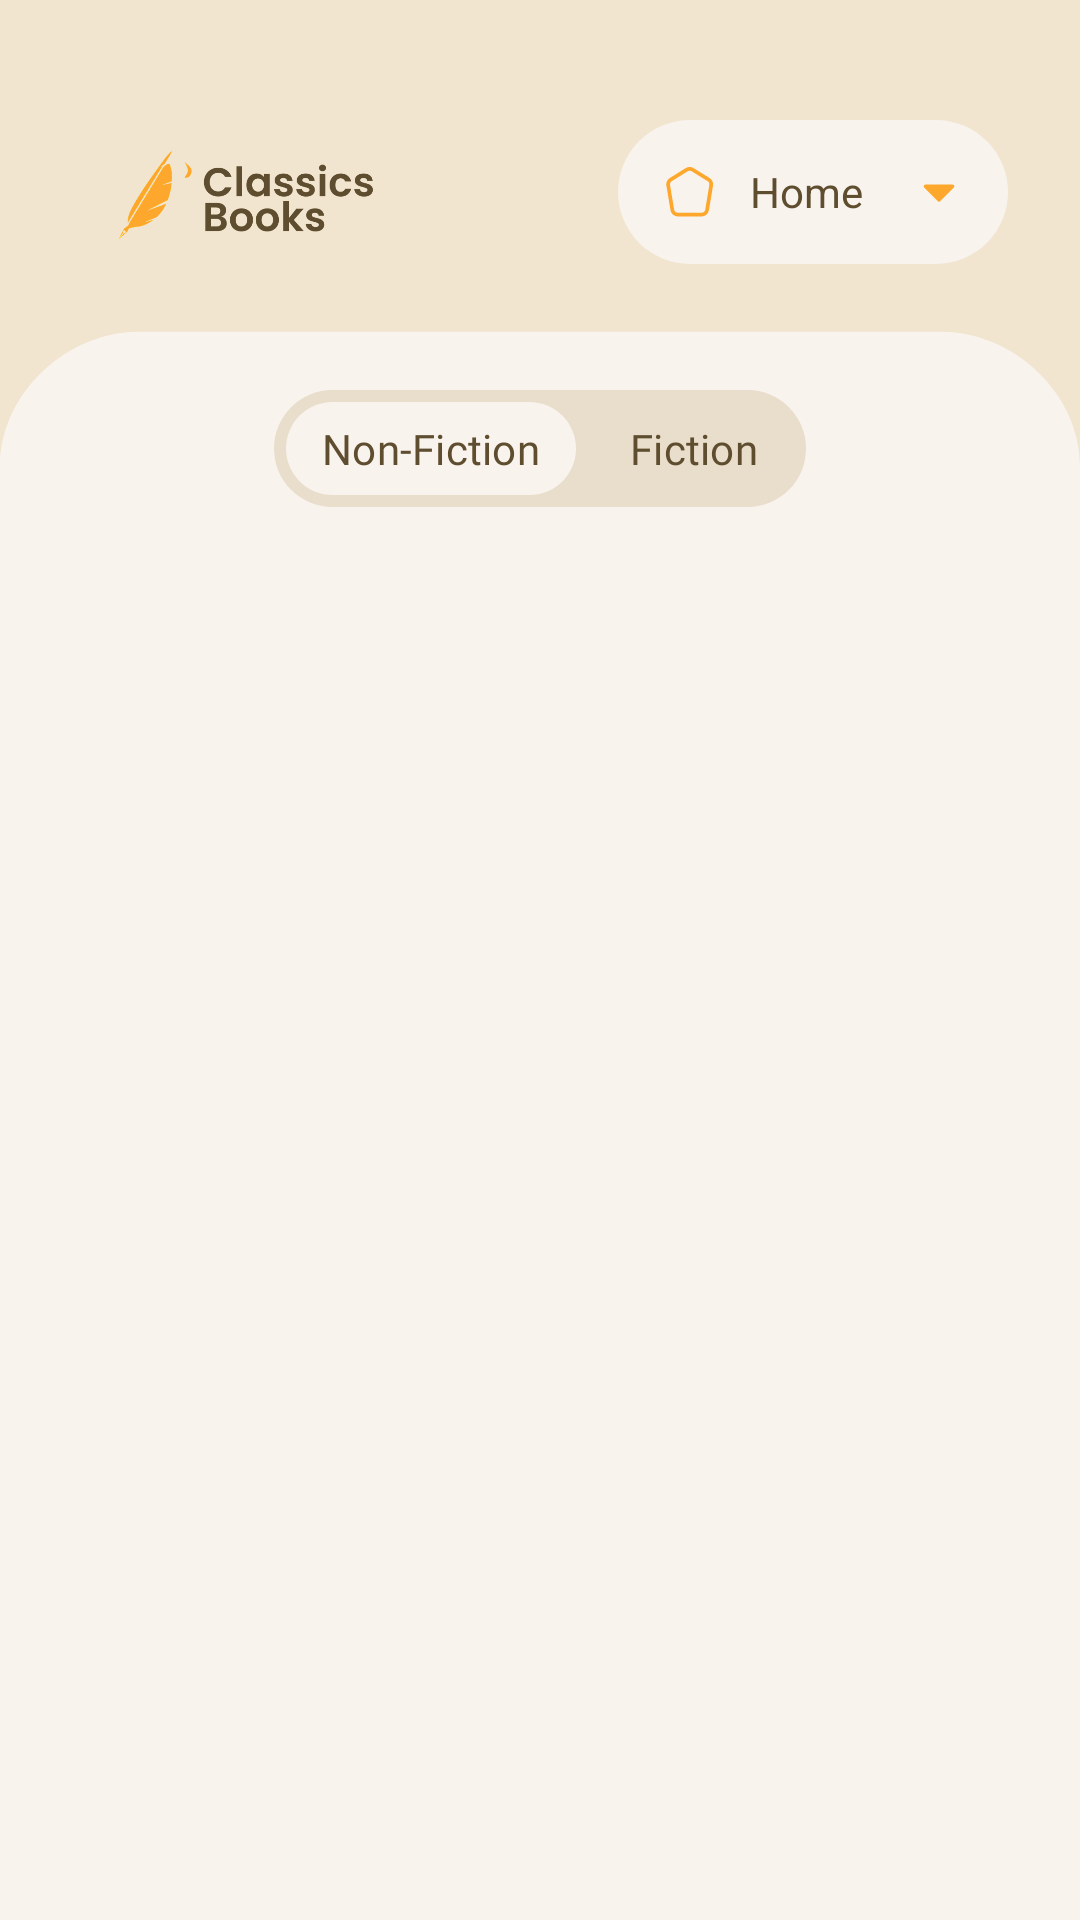

Point at icon controls on the screen. Image size 1080x1920, points as [x,y].
arrow down: [939,193]
